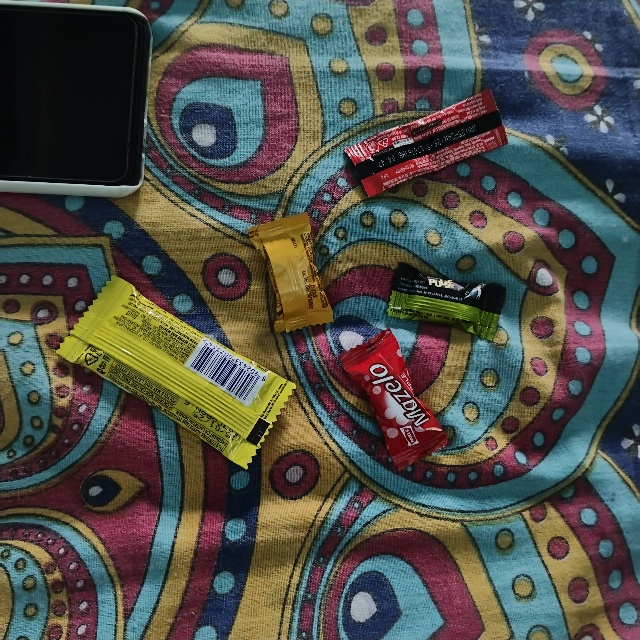Alpenlibe Creamfills: (244, 222, 307, 346)
Mazelo: (334, 354, 399, 481)
Nescafe Coffee: (338, 144, 505, 208)
Orbit: (56, 355, 160, 583)
Pulse: (400, 260, 510, 322)
